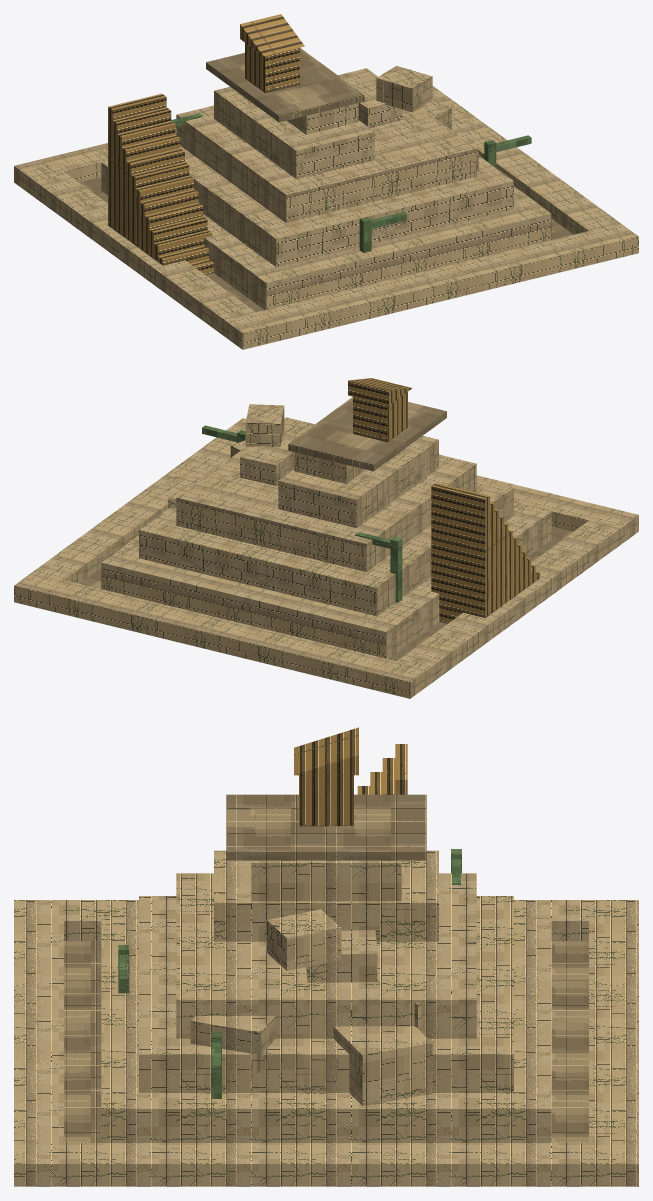
Rendered from lm_collapsed_ziggurat.glb.
3 renders of one model, top to bottom at view 1: azimuth 30°, elevation 25°; view 2: azimuth 150°, elevation 25°; view 3: azimuth 270°, elevation 25°, orthographic. The views are drawn at different scales.
Parts seen in each view (by area): view 1: lm_collapsed_ziggurat; view 2: lm_collapsed_ziggurat; view 3: lm_collapsed_ziggurat.
Boxes of the visible parts, left/top/right/bottom form: lm_collapsed_ziggurat: left=14, top=14, right=638, bottom=349; lm_collapsed_ziggurat: left=14, top=378, right=638, bottom=698; lm_collapsed_ziggurat: left=14, top=727, right=638, bottom=1186.
Size of the model in its own units: 25 by 12.45 by 25.
26 materials, 26 textured.
